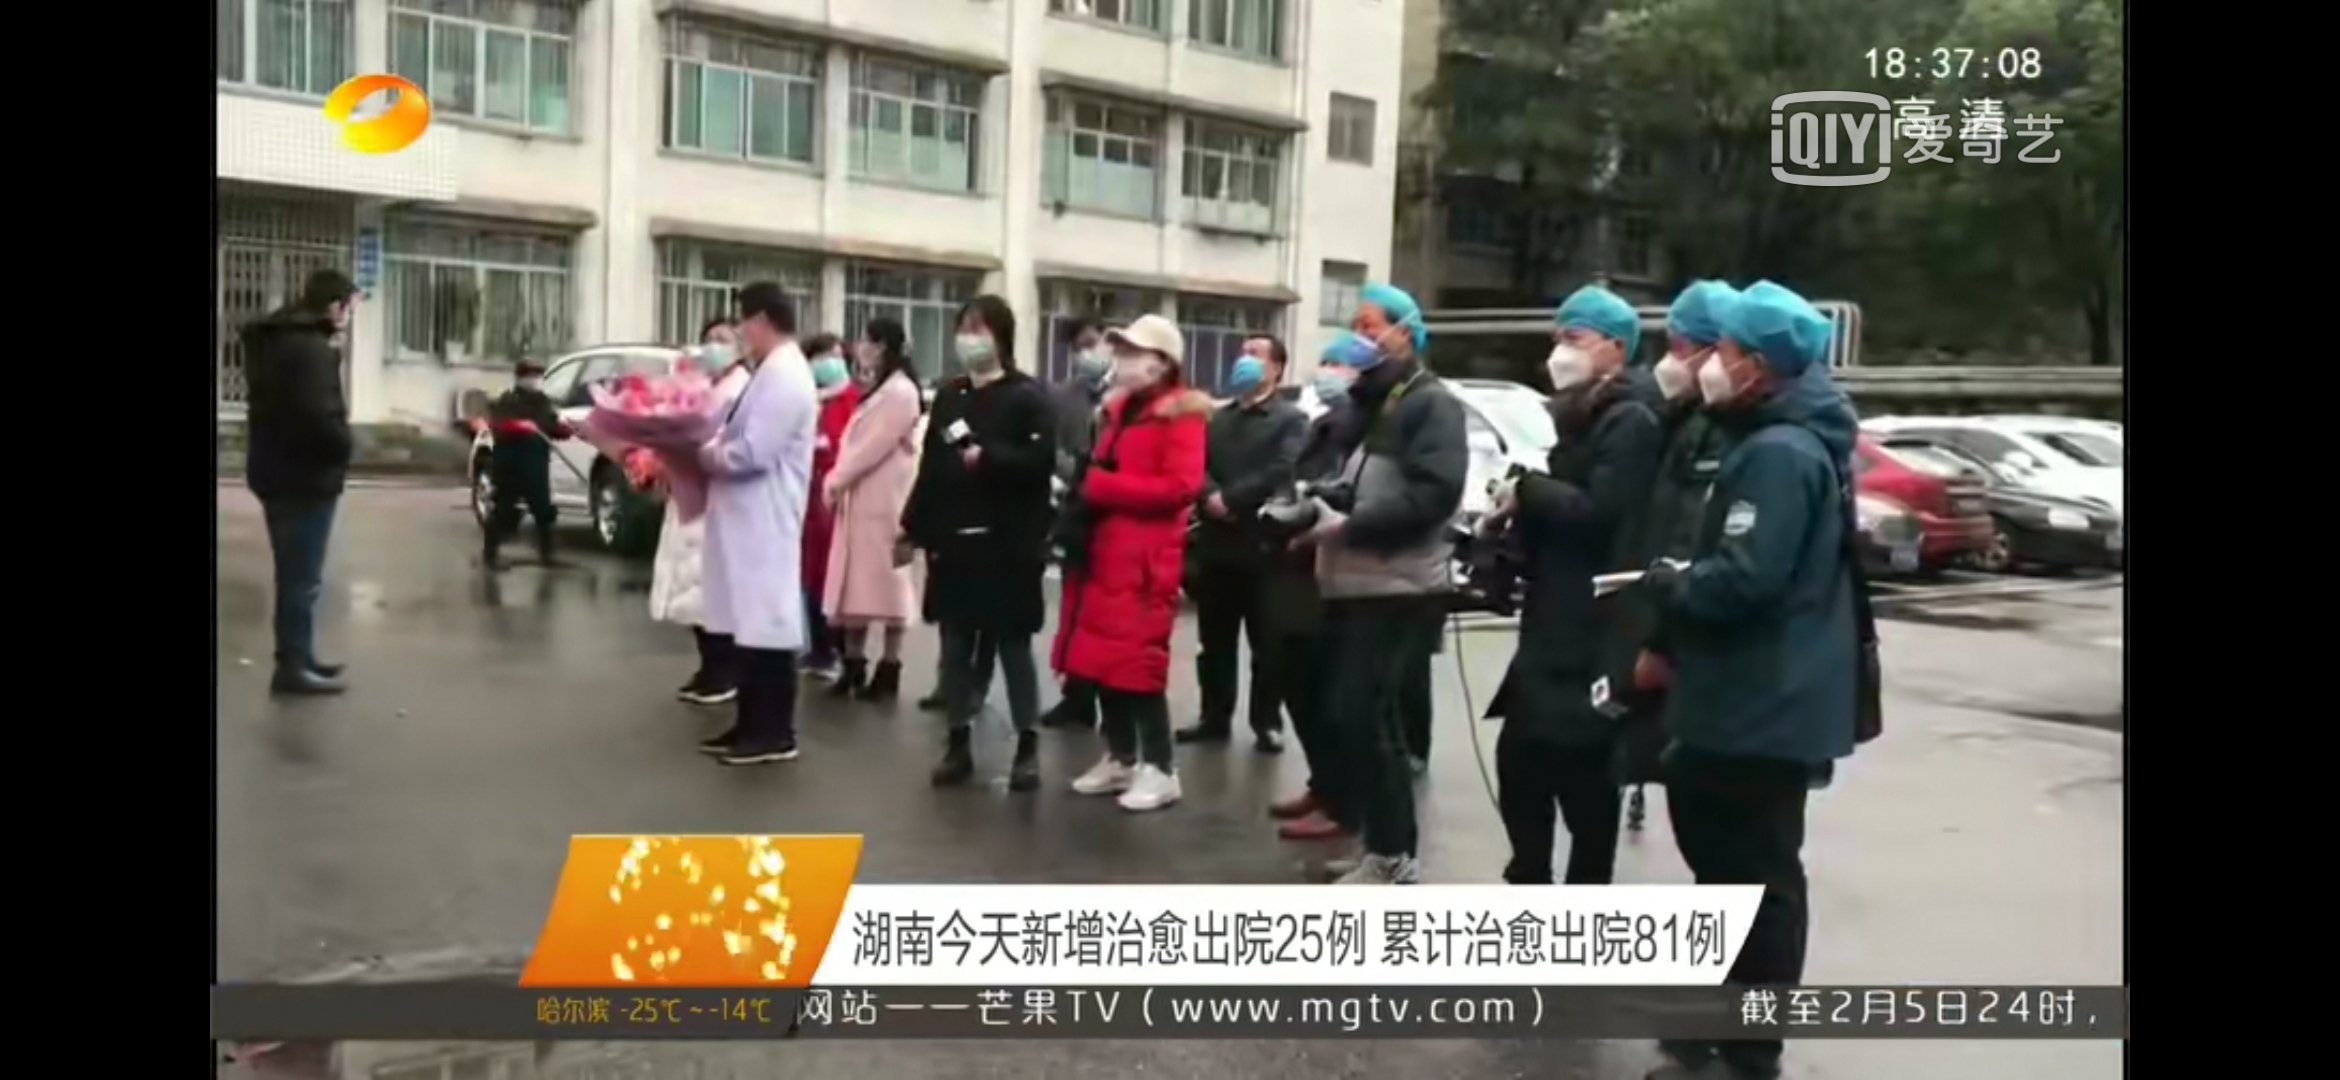correctlyWear: (1698, 333, 1770, 406), (1548, 324, 1624, 392), (1654, 327, 1710, 404), (1342, 312, 1406, 371), (1116, 339, 1170, 392), (954, 316, 997, 373), (1234, 342, 1276, 391), (698, 328, 739, 374), (1067, 339, 1113, 379), (1312, 357, 1352, 401), (807, 348, 848, 386), (328, 289, 357, 330), (518, 368, 545, 392)
